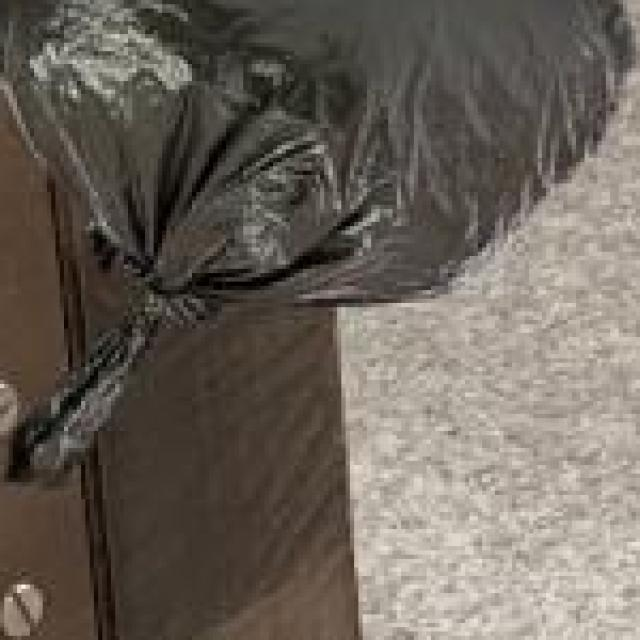Trashbag: (0, 0, 629, 335)
